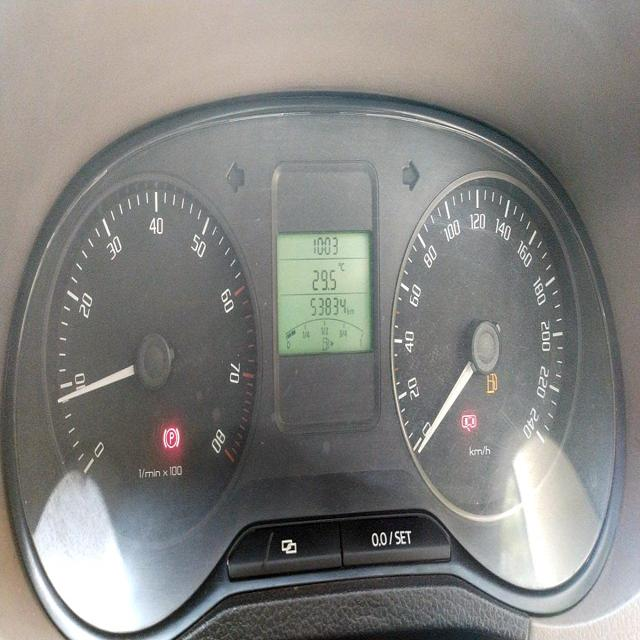odometer: (308, 289, 347, 320)
